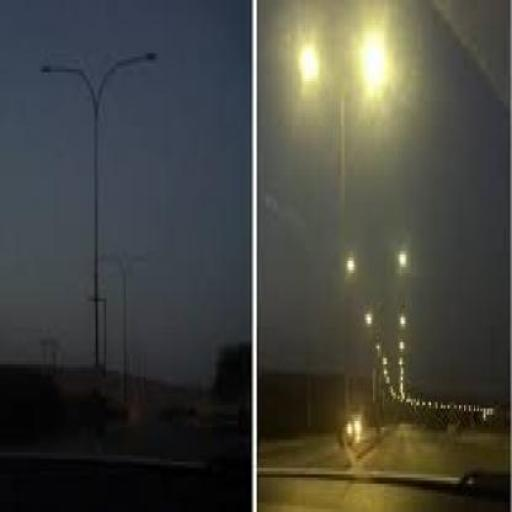street light: (38, 50, 160, 396), (299, 38, 385, 437)
